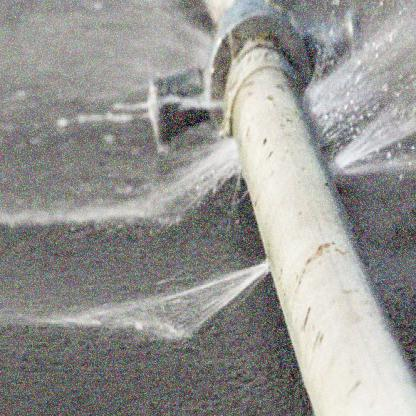burst: (310, 90, 375, 202), (222, 117, 263, 192), (252, 251, 305, 303)
